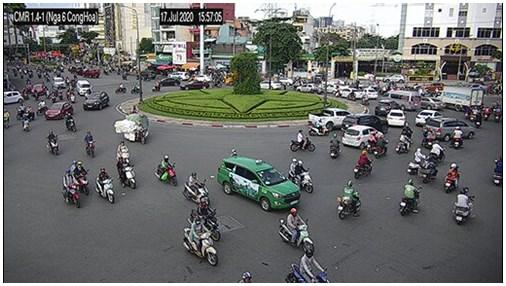xe_hoi: (218, 156, 300, 209), (423, 118, 476, 140), (341, 125, 382, 151), (341, 114, 389, 133), (45, 102, 74, 119), (83, 91, 110, 109), (373, 100, 401, 117), (414, 110, 442, 125), (386, 110, 406, 126), (180, 79, 210, 89), (421, 97, 442, 110), (4, 90, 23, 104), (76, 81, 92, 97), (295, 83, 318, 94), (157, 77, 180, 87), (166, 70, 189, 80), (258, 80, 283, 89), (383, 73, 404, 81), (32, 83, 45, 95), (362, 87, 377, 97), (52, 78, 65, 89), (191, 74, 211, 81)
xe_khach: (381, 90, 418, 111)
xe_may: (279, 208, 316, 256), (182, 216, 217, 265), (286, 250, 330, 284), (188, 198, 221, 243), (182, 170, 210, 206), (336, 178, 360, 220), (288, 158, 314, 194), (94, 166, 116, 205), (63, 168, 81, 210), (455, 186, 472, 227), (71, 160, 90, 196), (401, 179, 419, 217), (156, 155, 177, 187), (289, 130, 316, 153), (117, 157, 136, 189), (409, 145, 425, 176), (445, 162, 460, 195), (354, 150, 371, 178), (421, 155, 436, 183), (309, 118, 331, 137), (82, 130, 97, 157), (393, 132, 411, 154), (45, 129, 59, 157), (130, 121, 146, 145), (116, 141, 131, 166), (328, 133, 342, 159), (492, 154, 503, 186), (373, 134, 387, 159), (63, 111, 77, 134), (431, 141, 445, 162), (452, 126, 463, 152), (367, 131, 378, 152), (402, 121, 413, 140), (14, 103, 25, 119), (129, 83, 143, 95), (4, 106, 11, 129), (35, 99, 45, 115), (114, 82, 126, 95), (473, 111, 482, 128), (152, 80, 163, 93), (22, 113, 30, 129), (492, 106, 500, 120), (68, 89, 77, 101), (333, 88, 342, 100), (361, 92, 369, 105), (470, 105, 478, 118), (347, 89, 355, 101), (464, 104, 471, 117), (483, 104, 488, 121), (57, 86, 63, 100), (51, 89, 56, 102)
xe_tai: (435, 85, 483, 113)
